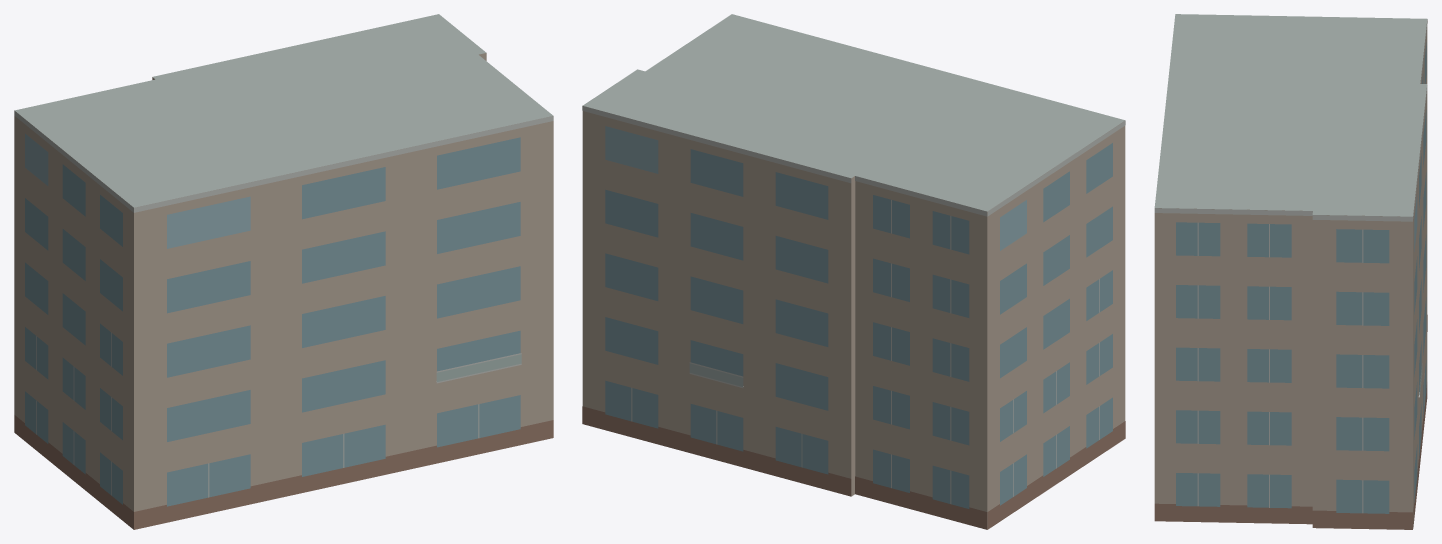
The model's file is survey-upis-32872361.glb.
3 renders of one model, left to right at view 1: azimuth 30°, elevation 25°; view 2: azimuth 150°, elevation 25°; view 3: azimuth 270°, elevation 25°, orthographic. The views are drawn at different scales.
Parts seen in each view (by area): view 1: survey-upis-32872361.tmp; view 2: survey-upis-32872361.tmp; view 3: survey-upis-32872361.tmp.
Boxes of the visible parts, bbox=[...] form: survey-upis-32872361.tmp: bbox=[14, 14, 553, 529]; survey-upis-32872361.tmp: bbox=[582, 14, 1125, 529]; survey-upis-32872361.tmp: bbox=[1154, 14, 1427, 529].
Size of the model in its own units: 21.18 by 15.25 by 12.05.
